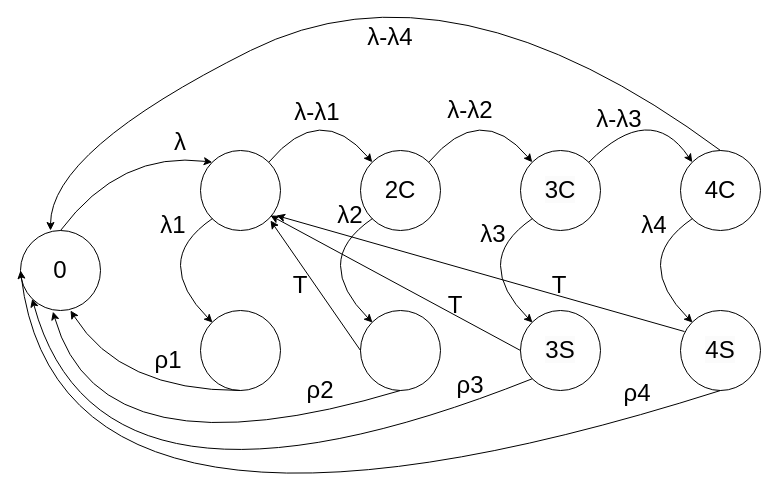
Image size: 778x491. Some labels were removed from this diagram. The box of each missing label's shape, as (x1, y1, x2, y2) in pixels:
1C: (200, 150, 280, 230)
1S: (200, 310, 280, 390)
2S: (360, 310, 440, 390)
